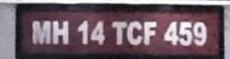1: (75, 19, 89, 44)
4: (89, 19, 106, 45), (162, 20, 178, 45)
5: (177, 20, 192, 46)
9: (192, 20, 206, 46)
C: (125, 19, 142, 45)
F: (142, 20, 156, 45)
H: (50, 19, 69, 45)
M: (30, 19, 51, 44)
T: (109, 20, 127, 44)
